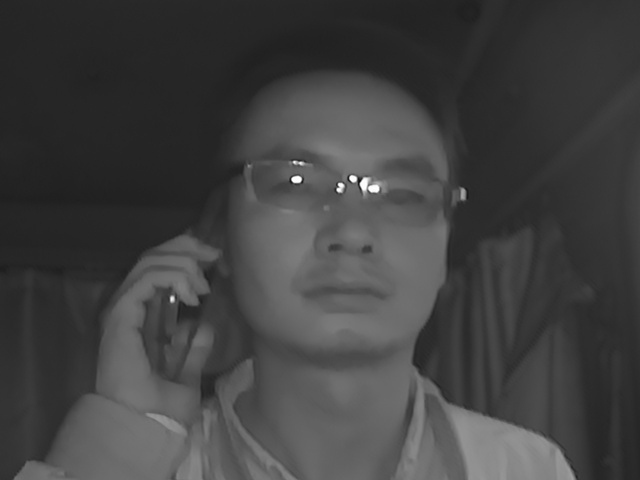hand: (96, 233, 222, 419)
